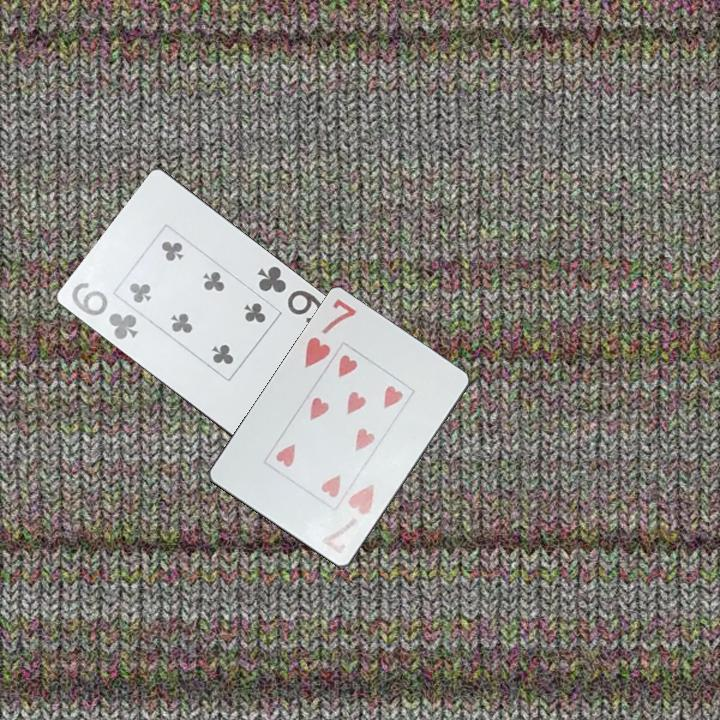6c: (254, 262, 327, 326), (68, 279, 141, 343)
7h: (318, 481, 377, 557), (301, 296, 360, 371)
